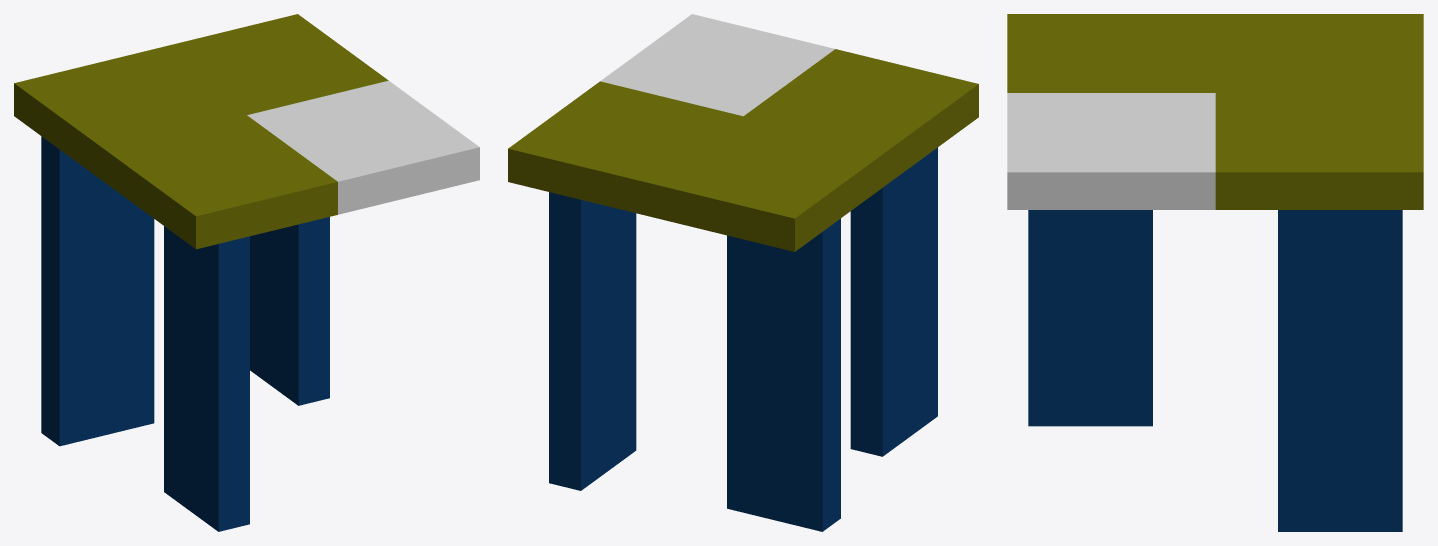
The model's file is Pillar_02_H_L.fbx.
The picture shows the model from 3 angles, left to right: view 1: azimuth 30°, elevation 25°; view 2: azimuth 150°, elevation 25°; view 3: azimuth 270°, elevation 25°; orthographic projection. The views are drawn at different scales.
Visible parts, largest first — view 1: 4, 3, 2, 1; view 2: 4, 2, 3, 1; view 3: 2, 3, 1, 4.
Boxes of the visible parts, left/top/right/bottom form: 4: left=14, top=48, right=246, bottom=446; 3: left=105, top=115, right=337, bottom=531; 2: left=156, top=14, right=388, bottom=405; 1: left=247, top=80, right=479, bottom=214; 4: left=651, top=116, right=886, bottom=531; 2: left=508, top=81, right=742, bottom=490; 3: left=744, top=49, right=978, bottom=456; 1: left=600, top=14, right=834, bottom=116; 2: left=1215, top=93, right=1423, bottom=531; 3: left=1007, top=14, right=1215, bottom=426; 1: left=1007, top=93, right=1215, bottom=209; 4: left=1215, top=14, right=1423, bottom=92.
Size of the model in its own units: 180 by 200 by 200.
